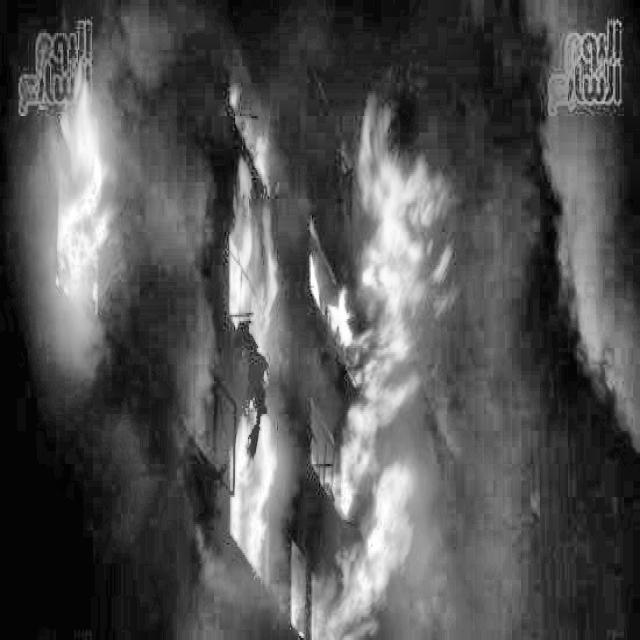fire: (221, 60, 454, 606), (35, 51, 117, 353)
